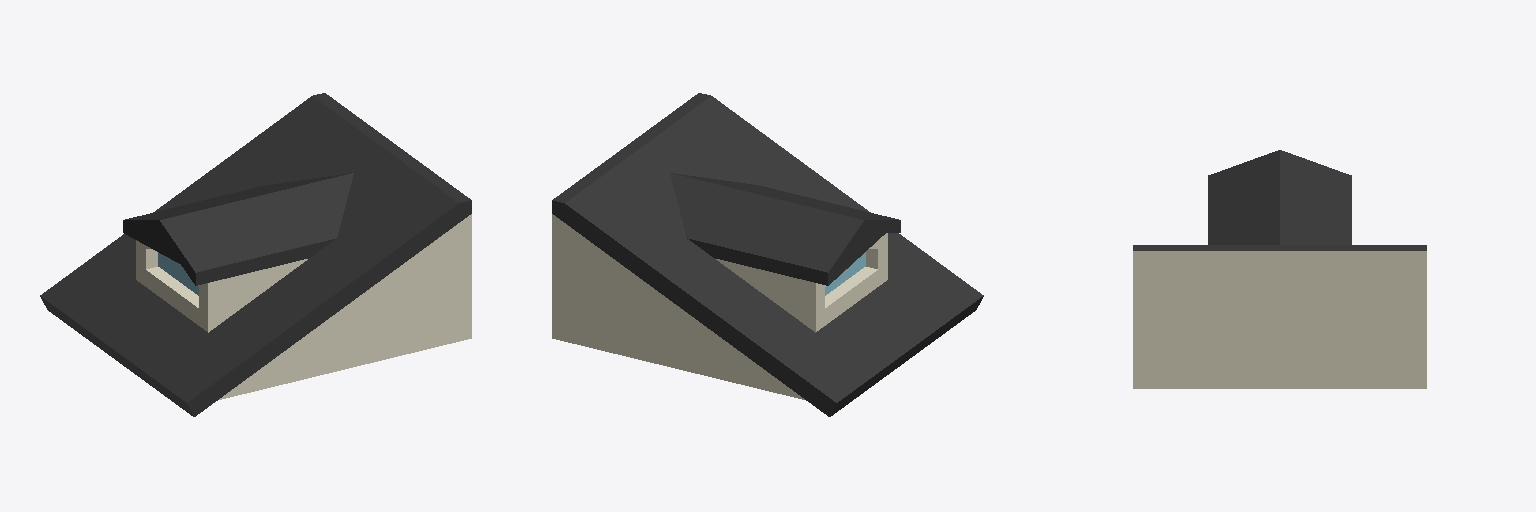
The model's file is modularBuildings_063.obj.
3 views of the same model, side by side, from view 1: azimuth 30°, elevation 25°; view 2: azimuth 150°, elevation 25°; view 3: azimuth 270°, elevation 25° (orthographic).
Parts seen in each view (by area): view 1: Mesh1_Group1_Model.004; view 2: Mesh1_Group1_Model.004; view 3: Mesh1_Group1_Model.004.
Boxes of the visible parts, x1=… form: Mesh1_Group1_Model.004: x1=40, y1=93, x2=471, y2=416; Mesh1_Group1_Model.004: x1=552, y1=93, x2=983, y2=416; Mesh1_Group1_Model.004: x1=1133, y1=150, x2=1426, y2=388.
Bounding box in the file's own units: 1.12 × 0.5612 × 1.